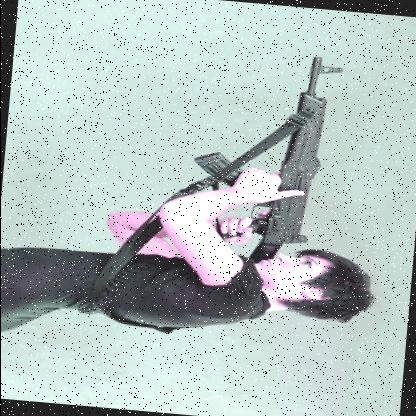rifle: (181, 44, 355, 271)
